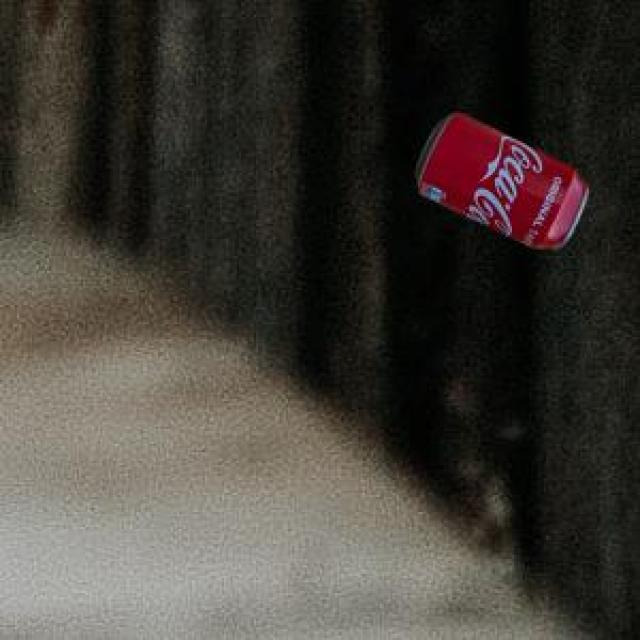logam: (413, 110, 583, 244)
